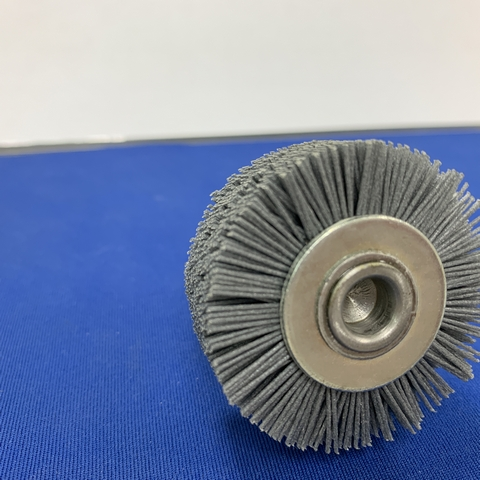Wheel Brush: (181, 131, 480, 461), (194, 141, 480, 438)
